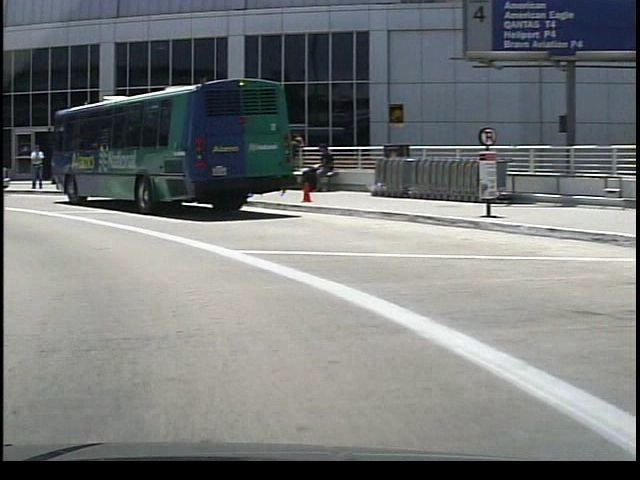person: (300, 142, 331, 198), (25, 142, 43, 194)
